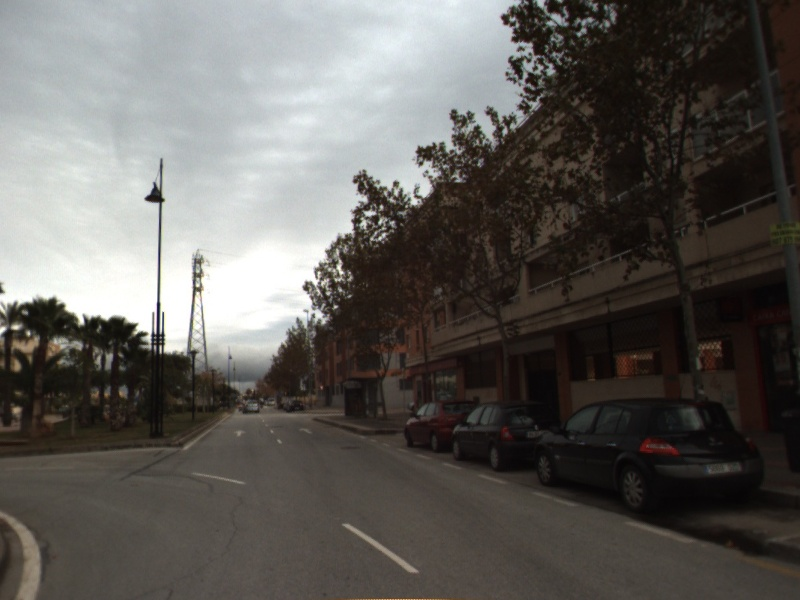STRAIGHT: (297, 426, 315, 436), (232, 428, 248, 438)
